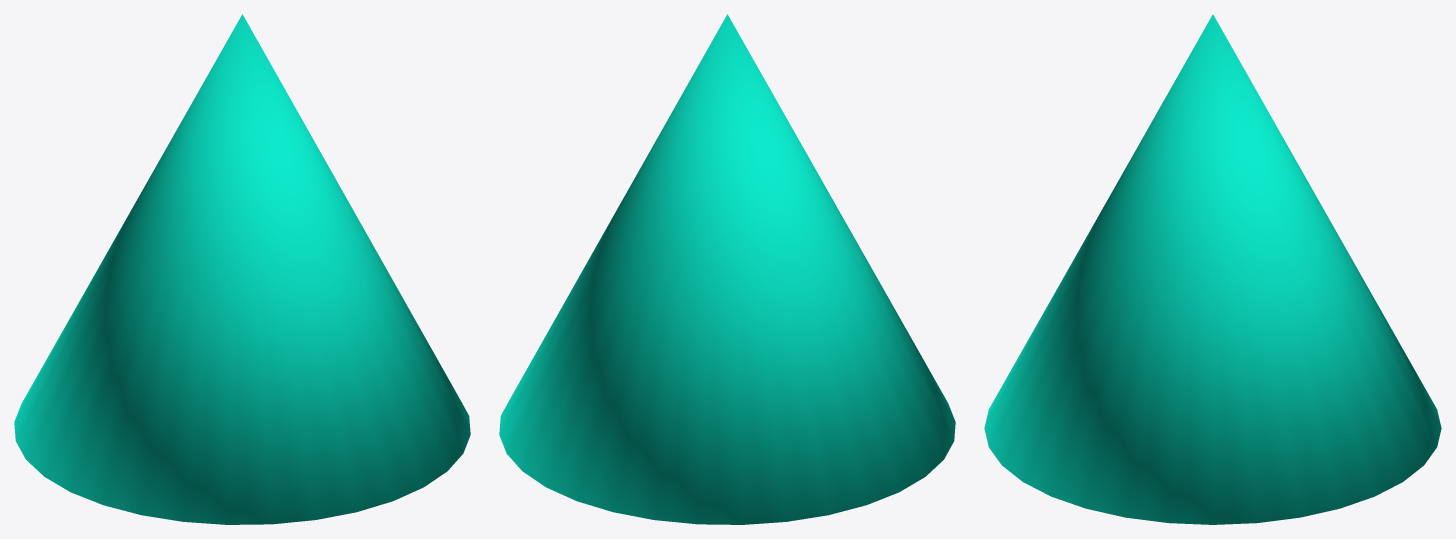
3 views of the same model, side by side, from view 1: azimuth 30°, elevation 25°; view 2: azimuth 150°, elevation 25°; view 3: azimuth 270°, elevation 25° (orthographic).
Visible parts, largest first — view 1: Cone; view 2: Cone; view 3: Cone.
Boxes of the visible parts, bbox=[...] form: Cone: bbox=[14, 14, 470, 524]; Cone: bbox=[499, 14, 955, 524]; Cone: bbox=[984, 14, 1441, 524].
Bounding box in the file's own units: 2 × 2 × 2.
